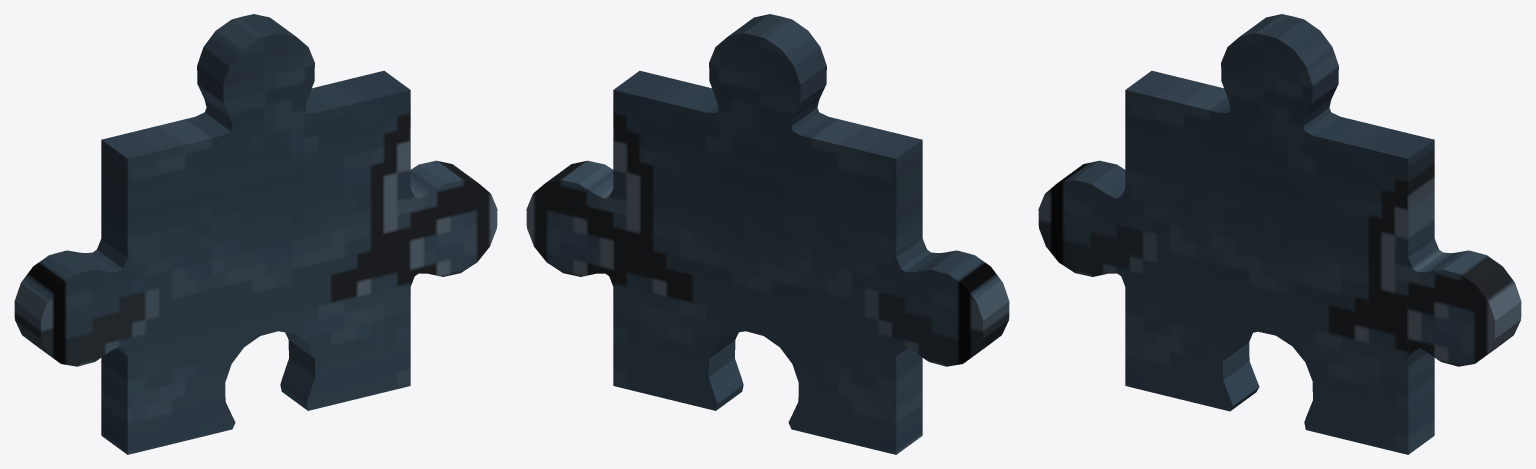
The model's file is Pieces_4_003.fbx.
The picture shows the model from 3 angles, left to right: view 1: azimuth 30°, elevation 25°; view 2: azimuth 150°, elevation 25°; view 3: azimuth 330°, elevation 25°; orthographic projection.
Visible parts, largest first — view 1: Pieces 4.003; view 2: Pieces 4.003; view 3: Pieces 4.003.
Boxes of the visible parts, x1,y1,x2,y2 form: Pieces 4.003: [14, 14, 497, 454]; Pieces 4.003: [526, 14, 1009, 454]; Pieces 4.003: [1038, 14, 1521, 454].
Bounding box in the file's own units: 130 × 105 × 12.98.
